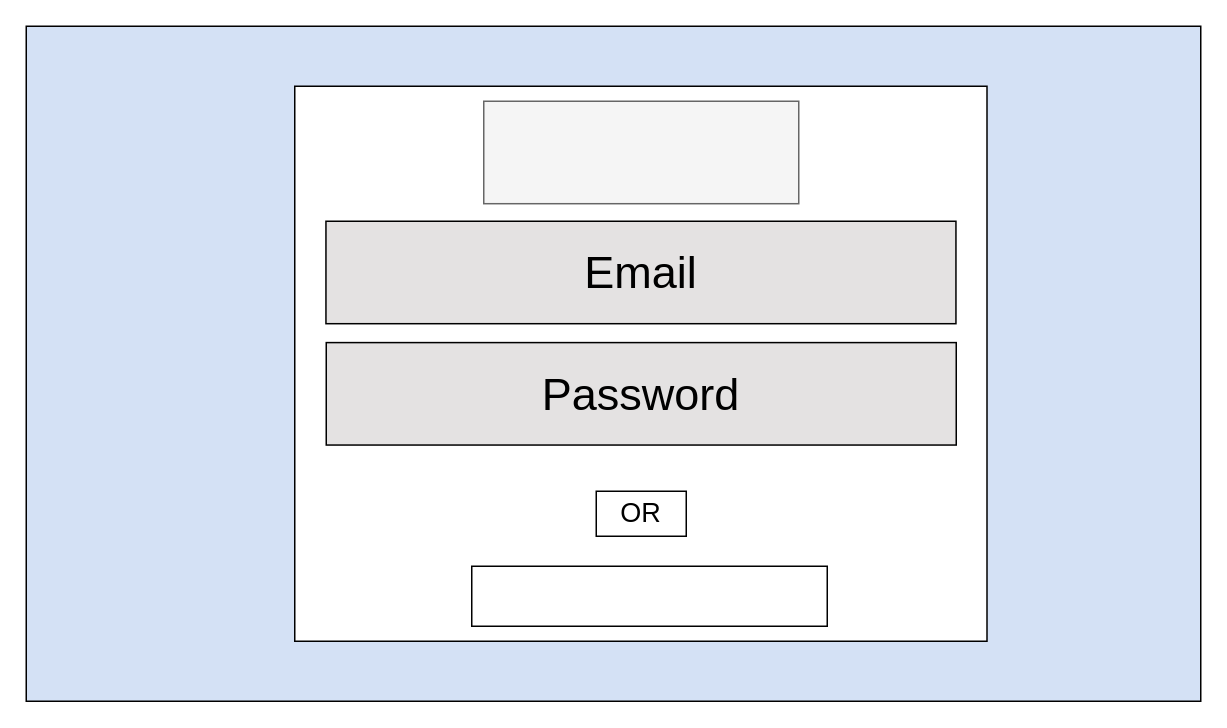
This 1227x728 diagram has some shape labels left out. The shapes that lost their labels are listed below. From the top down, each one's centre as x and y in pixels, then its label:
point (640, 152): User login
point (648, 595): Create Account
